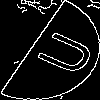U: (25, 25, 98, 78)
